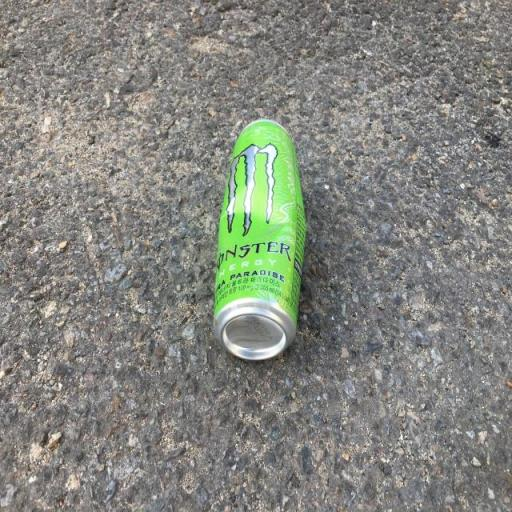metal: (178, 77, 363, 433)
